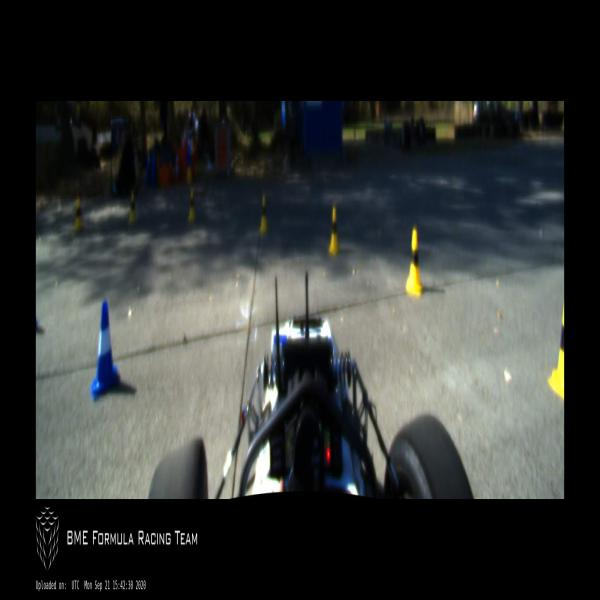blue_cone: (90, 300, 119, 401)
yellow_cone: (548, 300, 564, 401), (406, 231, 422, 297), (328, 206, 340, 257), (73, 197, 83, 231), (260, 195, 268, 235), (128, 190, 136, 224), (188, 189, 195, 222)
